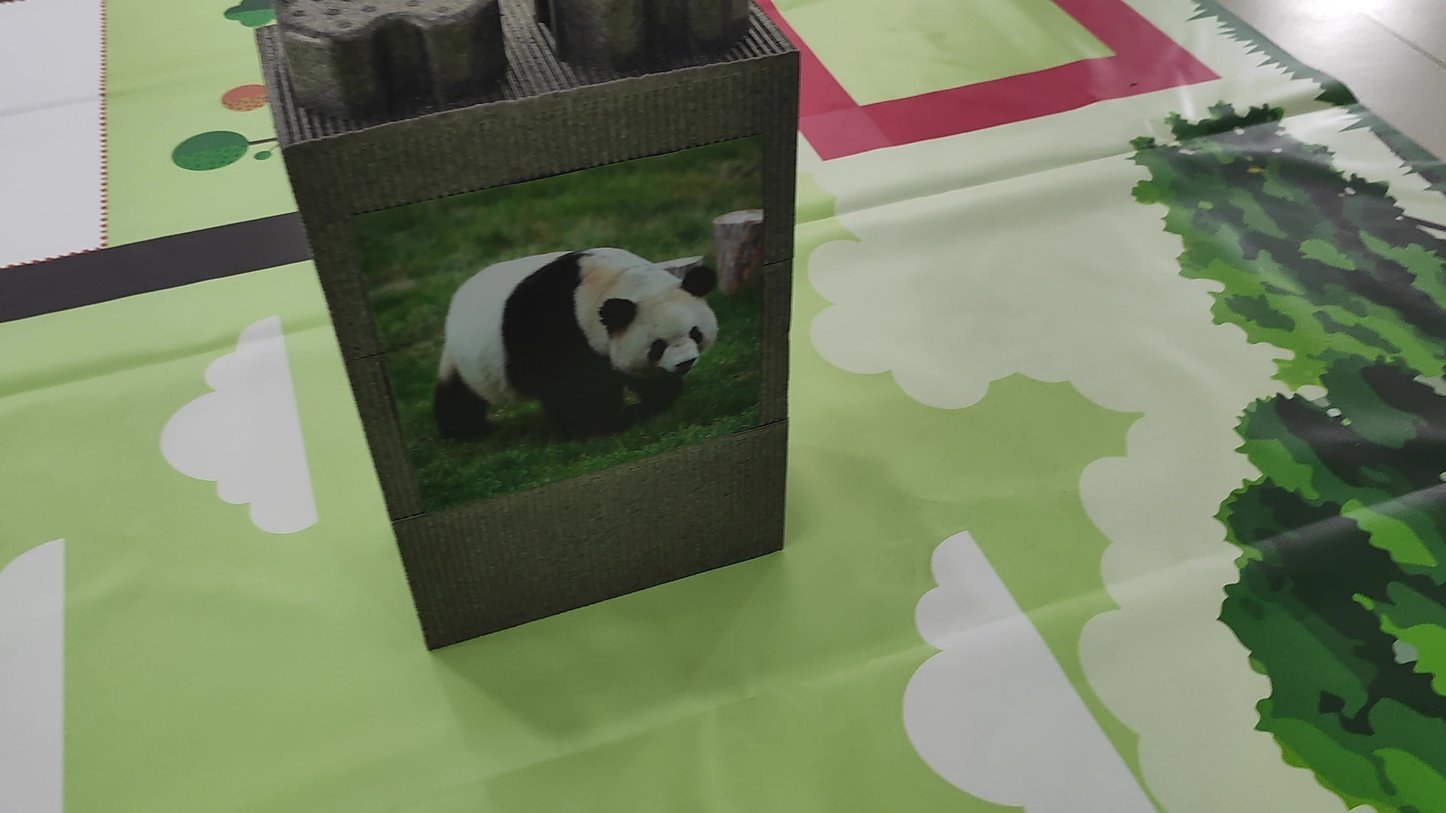panda: (419, 239, 743, 429)
